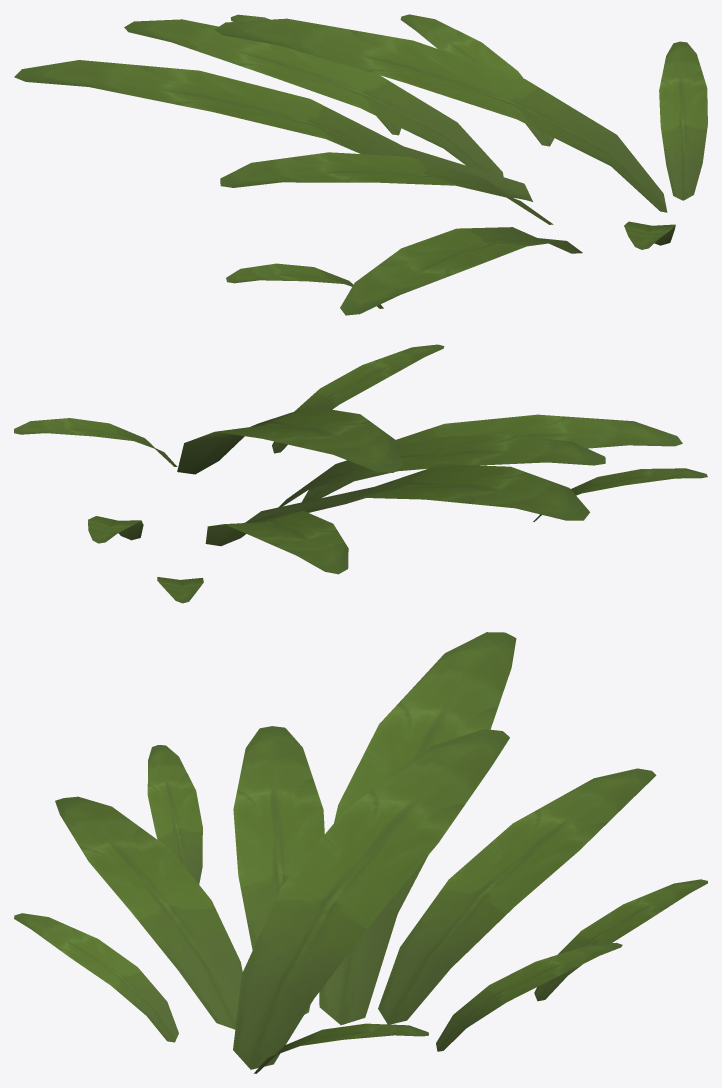
Rendered from grass_004.glb.
3 views of the same model, one above another, from view 1: azimuth 30°, elevation 25°; view 2: azimuth 150°, elevation 25°; view 3: azimuth 270°, elevation 25° (orthographic). The views are drawn at different scales.
Parts seen in each view (by area): view 1: Plane.002; view 2: Plane.002; view 3: Plane.002.
Boxes of the visible parts, <box> form: Plane.002: <box>14,14,707,315</box>; Plane.002: <box>14,344,707,603</box>; Plane.002: <box>14,632,707,1073</box>.
Bounding box in the file's own units: 0.817 × 0.2291 × 0.7645.
1 material, 1 textured.
